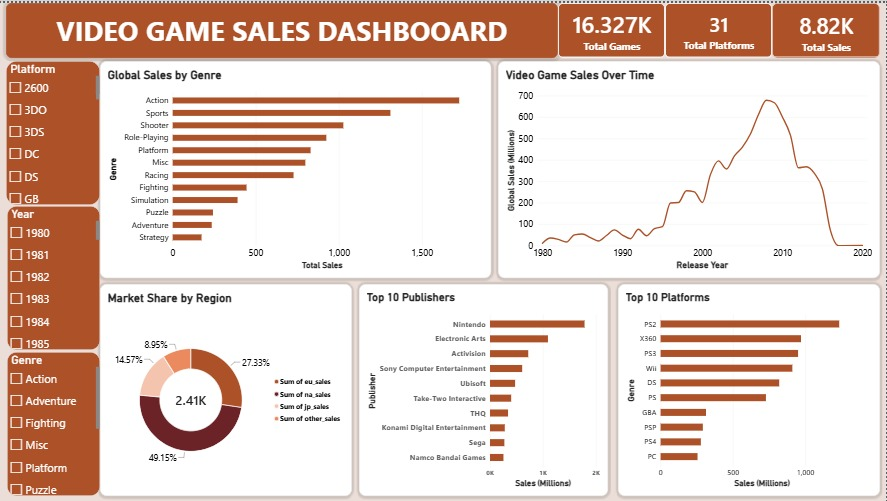

What the dashboard file says about the page in this screenshot:
{"tool":"powerbi","page":{"name":"Dashboard","canvas":[1920,1080],"ordinal":0},"visuals":[{"type":"clusteredBarChart","title":"Global Sales by Genre","fields":{"Category":["video_games_sales.genre"],"Y":["Sum(video_games_sales.global_sales)"]},"box":[220.3,125.3,844.6,468.7],"z":0},{"type":"lineChart","title":"Video Game Sales Over Time","fields":{"Category":["video_games_sales.year"],"Y":["Sum(video_games_sales.global_sales)"]},"box":[1080,125.3,825.1,468.7],"z":1000},{"type":"donutChart","title":"Market Share by Region","fields":{"Y":["Sum(video_games_sales.eu_sales)","Sum(video_games_sales.na_sales)","Sum(video_games_sales.jp_sales)","Sum(video_games_sales.other_sales)"]},"box":[220.3,607,544.3,457.9],"z":2000},{"type":"clusteredBarChart","title":"Top 10 Platforms","fields":{"Category":["video_games_sales.platform"],"Y":["Sum(video_games_sales.global_sales)"]},"box":[1339.2,607,565.9,457.9],"z":3000},{"type":"clusteredBarChart","title":"Top 10 Publishers","fields":{"Category":["video_games_sales.publisher"],"Y":["Sum(video_games_sales.global_sales)"]},"box":[779.8,607,537.8,457.9],"z":4000},{"type":"textbox","box":[1392,240,180,284],"z":5000},{"type":"textbox","box":[17.3,0,1192.3,118.8],"z":6000},{"type":"textbox","box":[1770,128,150,480],"z":7000},{"type":"cardVisual","title":"Sum of global sale","fields":{"Data":["Count(video_games_sales.platform)"]},"box":[1440.7,0,231.1,118.8],"z":8000},{"type":"cardVisual","title":"Sum of global sale","fields":{"Data":["Sum(video_games_sales.global_sales)"]},"box":[1671.8,0,233.3,118.8],"z":9000},{"type":"cardVisual","fields":{"Data":["CountNonNull(video_games_sales.rank)"]},"box":[1209.6,0,231.1,118.8],"z":10000},{"type":"slicer","fields":{"Values":["video_games_sales.genre"]},"box":[19.4,753.8,200.9,311],"z":11000},{"type":"slicer","fields":{"Values":["video_games_sales.platform"]},"box":[17.3,125.3,203,311],"z":12000},{"type":"slicer","fields":{"Values":["video_games_sales.year"]},"box":[19.4,438.5,200.9,311],"z":13000}]}

Visuals, with their boxes in screenshot pixels (x1, y1, x2, y2), scaled from the page's 1920x1080 canvas onto the 887x501 screenshot:
"Global Sales by Genre" clusteredBarChart: <region>102, 58, 492, 276</region>
"Video Game Sales Over Time" lineChart: <region>499, 58, 880, 276</region>
"Market Share by Region" donutChart: <region>102, 282, 353, 494</region>
"Top 10 Platforms" clusteredBarChart: <region>619, 282, 880, 494</region>
"Top 10 Publishers" clusteredBarChart: <region>360, 282, 609, 494</region>
textbox: <region>643, 111, 726, 243</region>
textbox: <region>8, 0, 559, 55</region>
textbox: <region>818, 59, 886, 282</region>
"Sum of global sale" cardVisual: <region>666, 0, 772, 55</region>
"Sum of global sale" cardVisual: <region>772, 0, 880, 55</region>
cardVisual - CountNonNull(video_games_sales.rank): <region>559, 0, 666, 55</region>
slicer - video_games_sales.genre: <region>9, 350, 102, 494</region>
slicer - video_games_sales.platform: <region>8, 58, 102, 202</region>
slicer - video_games_sales.year: <region>9, 203, 102, 348</region>
